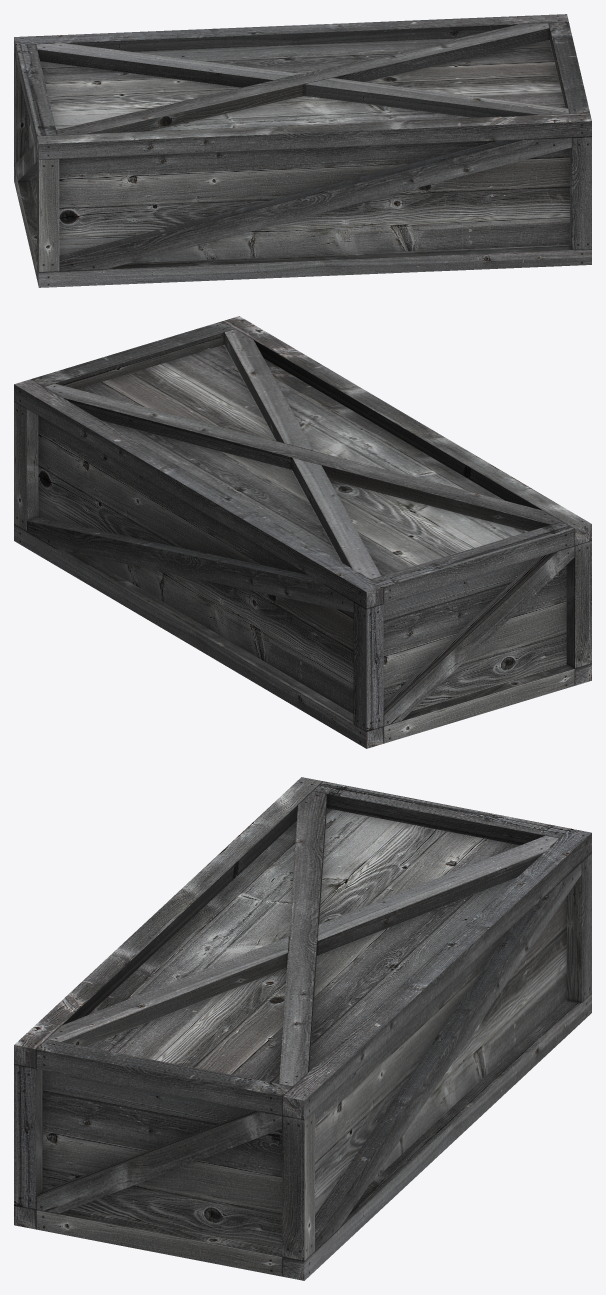
3 views of the same model, one above another, from view 1: azimuth 30°, elevation 25°; view 2: azimuth 150°, elevation 25°; view 3: azimuth 270°, elevation 25° (orthographic). The views are drawn at different scales.
Parts seen in each view (by area): view 1: Crate.Weapon; view 2: Crate.Weapon; view 3: Crate.Weapon.
Boxes of the visible parts, x1,y1,x2,y2 form: Crate.Weapon: (14,14,591,287); Crate.Weapon: (14,316,591,748); Crate.Weapon: (14,777,591,1280).
Bounding box in the file's own units: 2.4 × 1.81 × 0.6234.
Materials: 1 (1 with a texture image).
